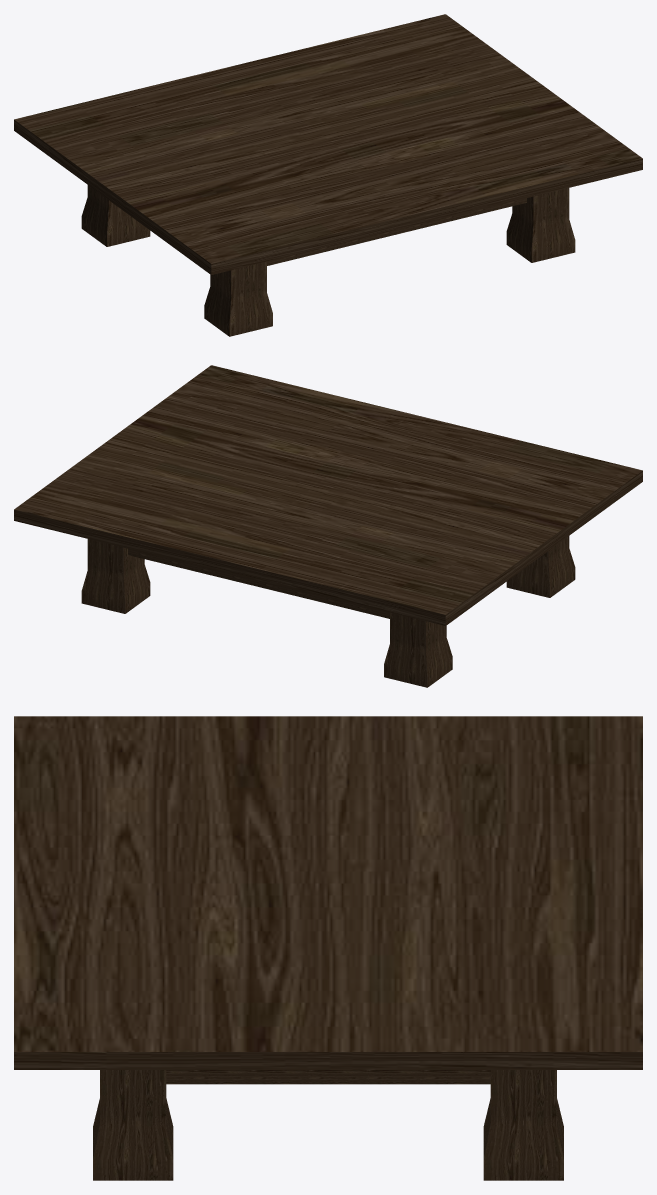
The model's file is Table.FBX.
3 views of the same model, one above another, from view 1: azimuth 30°, elevation 25°; view 2: azimuth 150°, elevation 25°; view 3: azimuth 270°, elevation 25° (orthographic). The views are drawn at different scales.
Visible parts, largest first — view 1: Box005, Box003, Box008, Box009, Box006; view 2: Box005, Box009, Box010, Box003, Box011; view 3: Box005, Box008, Box010, Box012.
Part boxes in pixels (<box>): Box005: <box>14,14,642,274</box>; Box003: <box>204,261,272,336</box>; Box008: <box>506,188,575,262</box>; Box009: <box>81,185,150,246</box>; Box006: <box>267,198,526,265</box>; Box005: <box>14,365,642,625</box>; Box009: <box>384,612,452,687</box>; Box010: <box>81,539,150,613</box>; Box003: <box>506,536,575,597</box>; Box011: <box>128,548,389,618</box>; Box005: <box>14,716,642,1069</box>; Box008: <box>93,1070,173,1180</box>; Box010: <box>483,1070,563,1180</box>; Box012: <box>166,1070,490,1084</box>.
Size of the model in its own units: 600 by 135 by 475.
1 material, 1 textured.
